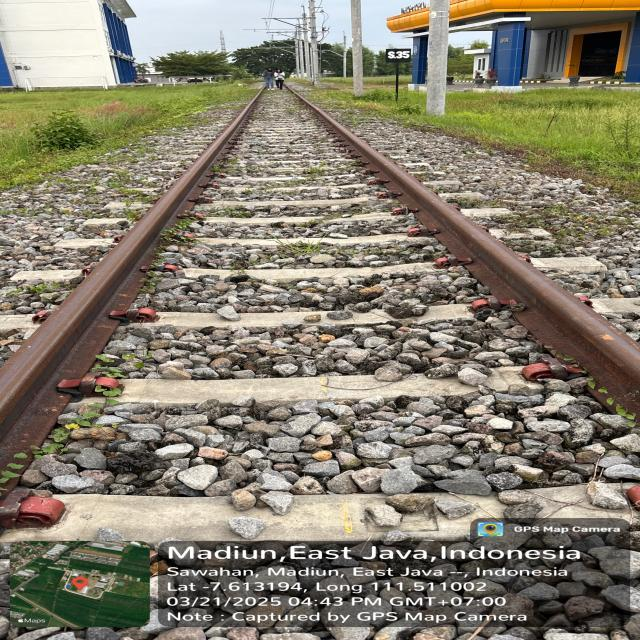rail-detection: (301, 98, 640, 422), (0, 96, 257, 470)
